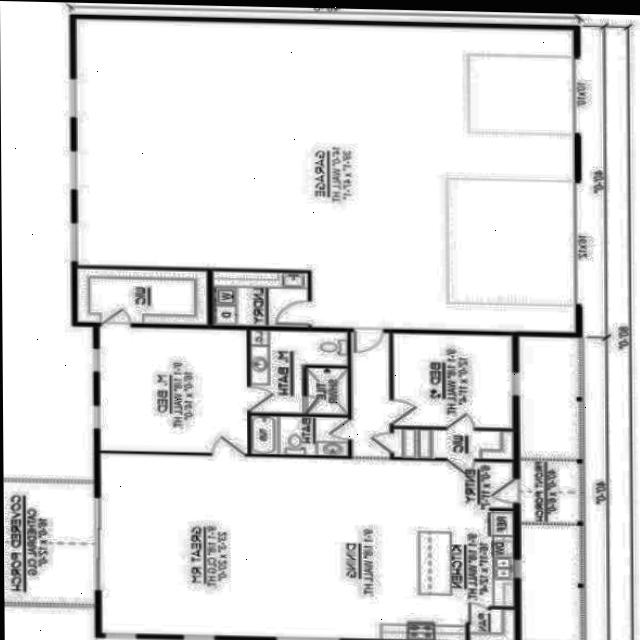room: (71, 19, 581, 332), (97, 453, 517, 640), (98, 326, 250, 452), (392, 333, 514, 427), (250, 328, 346, 413), (77, 268, 208, 323), (212, 270, 309, 326), (352, 332, 390, 456), (250, 416, 349, 455), (393, 428, 513, 459), (307, 367, 347, 414)
